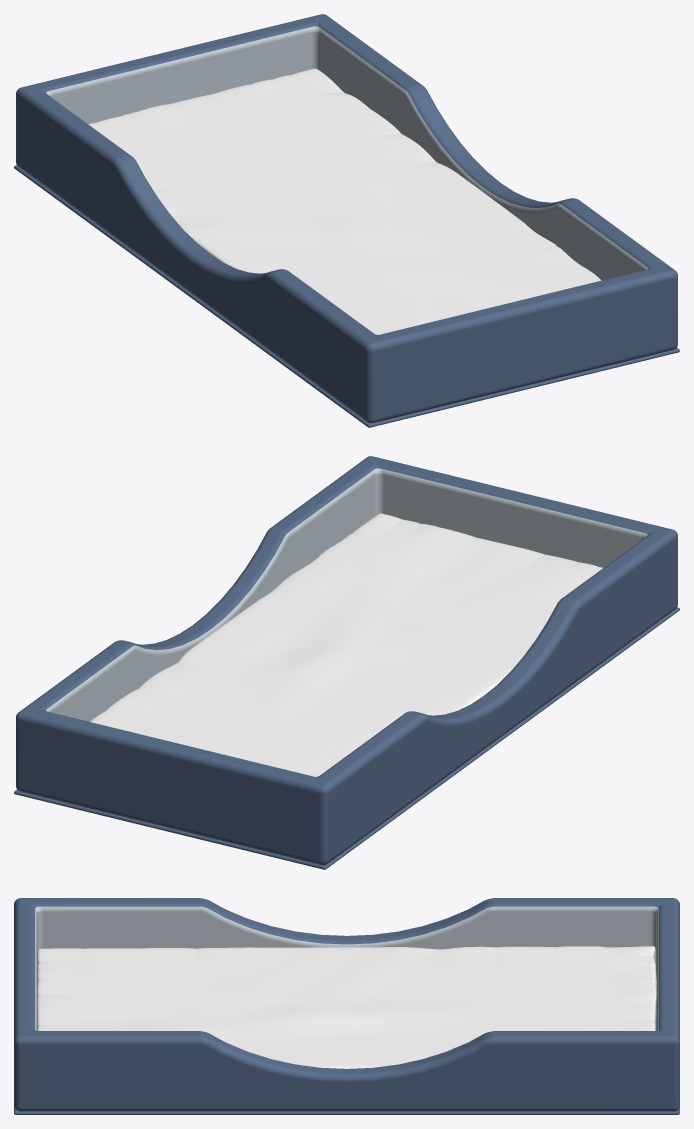
3 renders of one model, top to bottom at view 1: azimuth 30°, elevation 25°; view 2: azimuth 150°, elevation 25°; view 3: azimuth 270°, elevation 25°, orthographic. The views are drawn at different scales.
Visible parts, largest first — view 1: root; view 2: root; view 3: root.
Part boxes in pixels (x1,y1,x2,y2): root: [14, 14, 679, 427]; root: [14, 456, 679, 869]; root: [14, 898, 679, 1114].
Bounding box in the file's own units: 1.02 × 0.2555 × 2.01.
